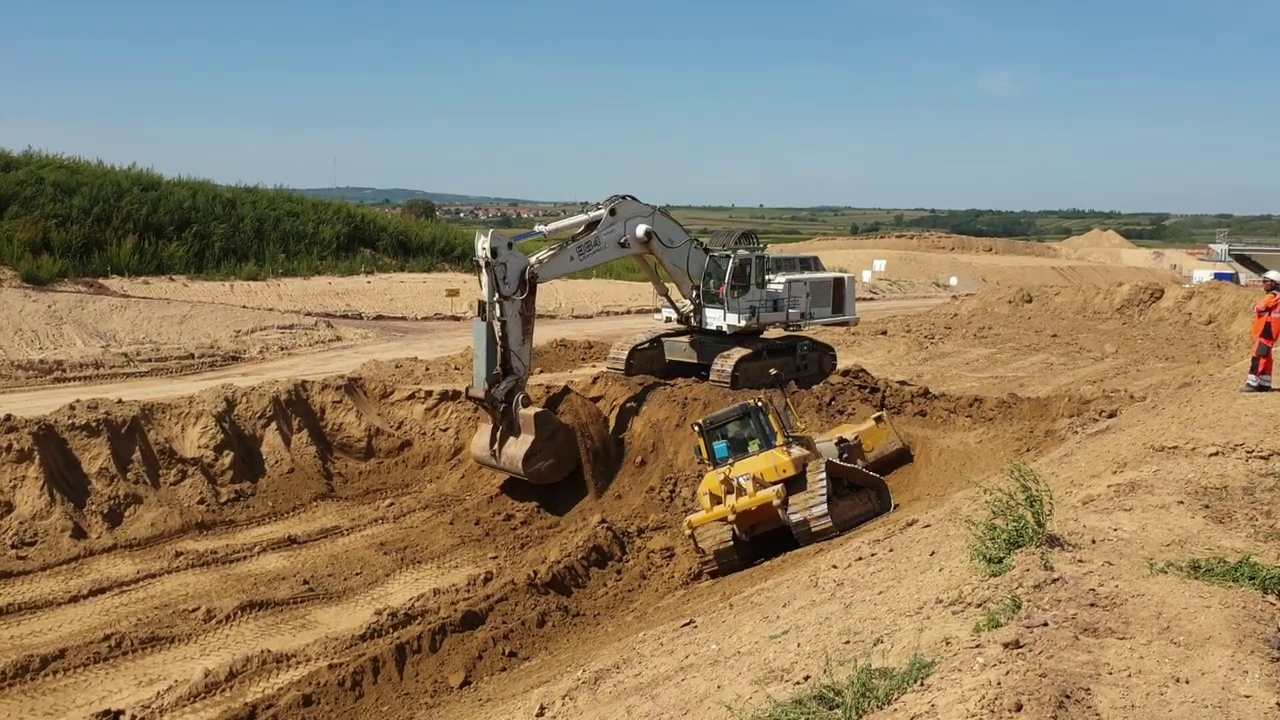bulldozer: (680, 364, 916, 579)
excavator: (459, 189, 866, 485)
worker: (1245, 267, 1280, 394)
